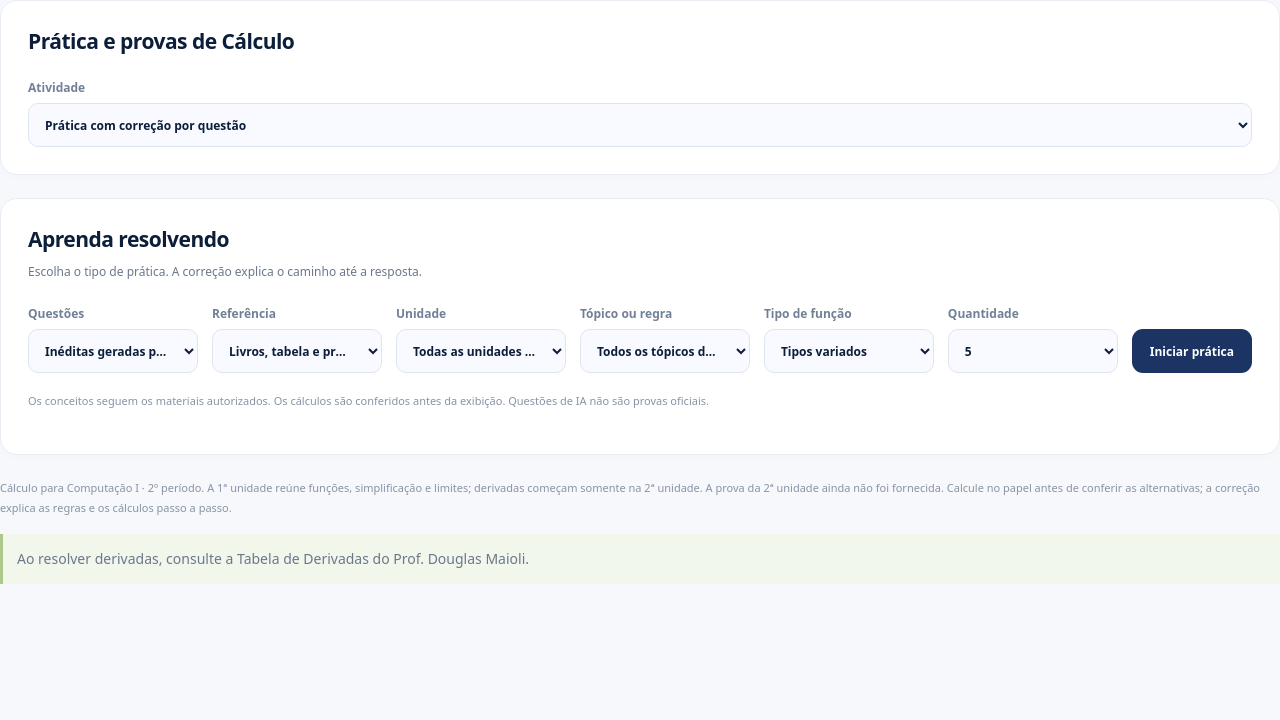
Test case: exige assuntos e quantidade suficiente no simulado personalizado
Select "Prova por assuntos selecionados" in the dropdown labelled "Atividade" at (640, 126), box [28,104,1252,148]
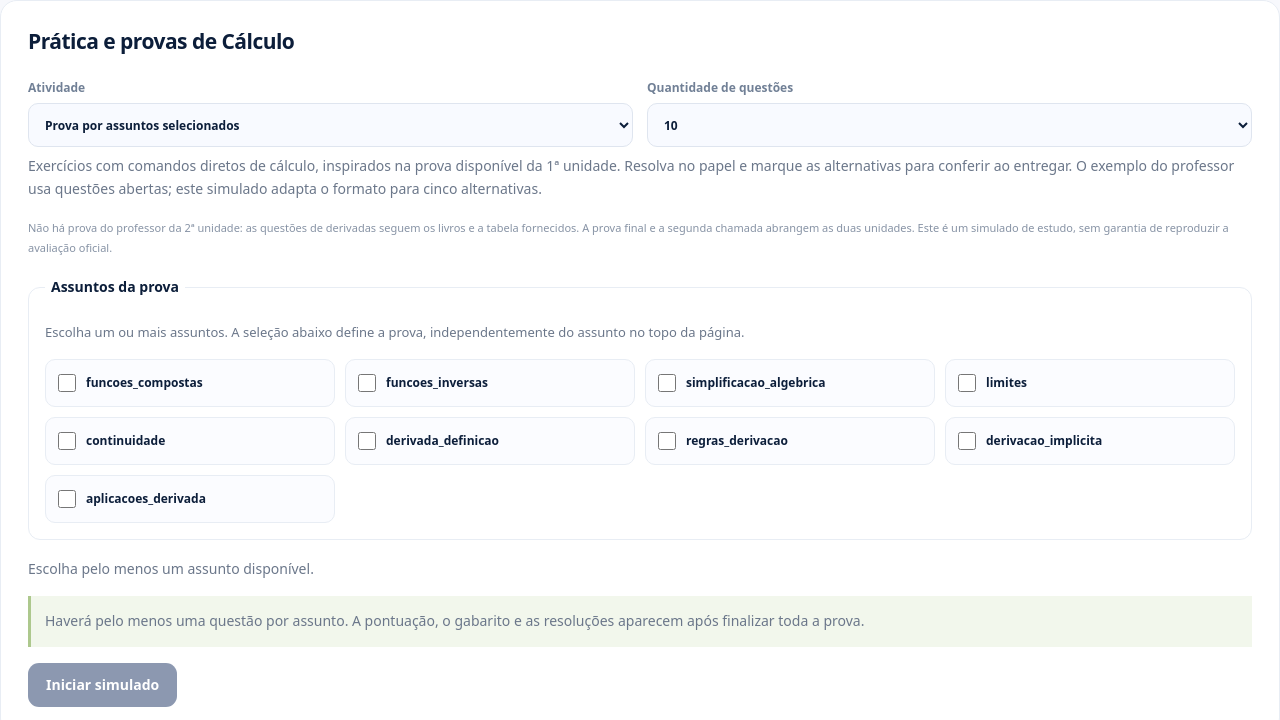
Expected: the button "Iniciar simulado" is disabled, [28,663,177,707]
Click the checkbox labelled "funcoes_compostas" at (67, 383), box [58,374,76,392]
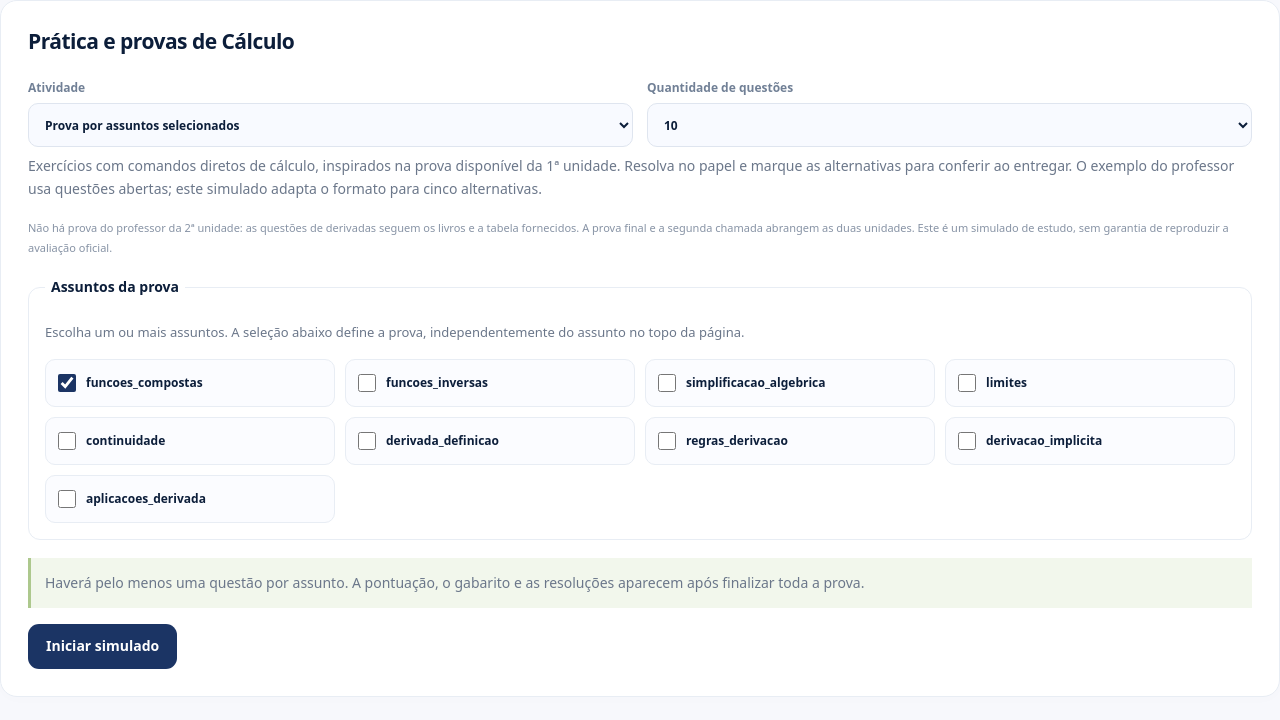
Click the checkbox labelled "derivada_definicao" at (367, 441), box [358,432,376,450]
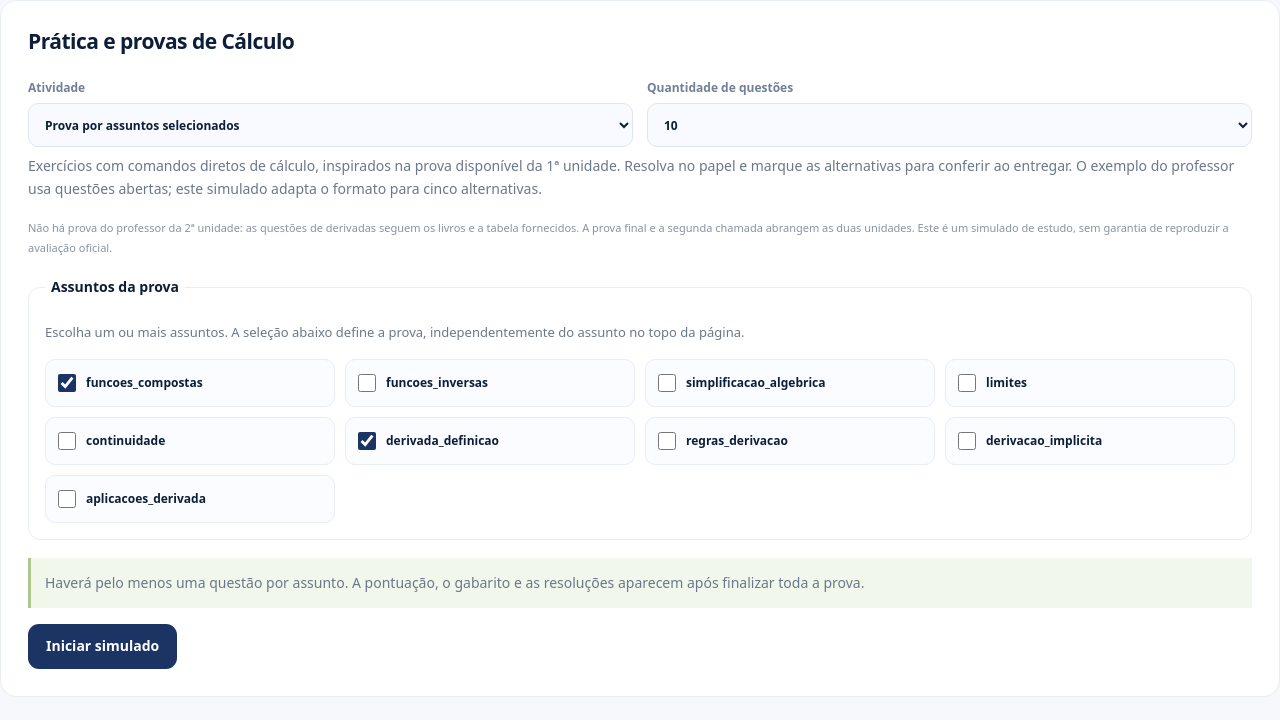
Select "1" in the dropdown labelled "Quantidade de questões" at (950, 126), box [647,104,1252,148]
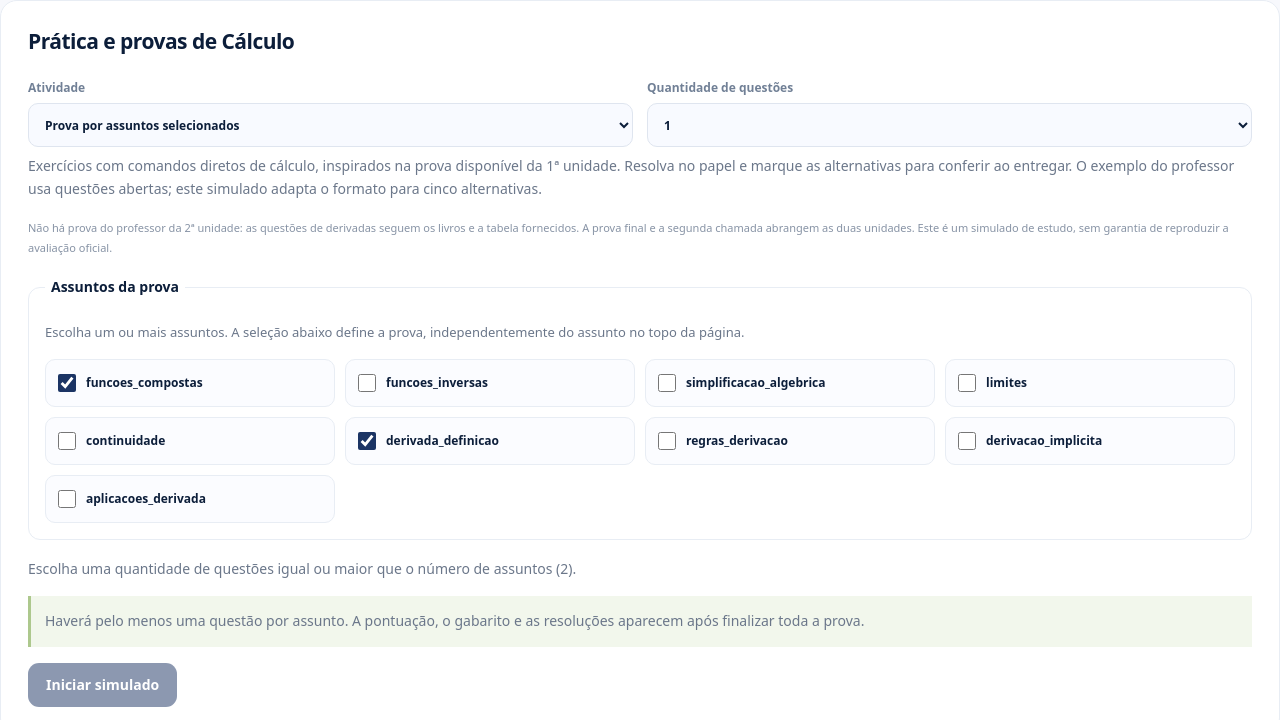
Expected: the button "Iniciar simulado" is disabled, [28,663,177,707]
Select "3" in the dropdown labelled "Quantidade de questões" at (950, 126), box [647,104,1252,148]
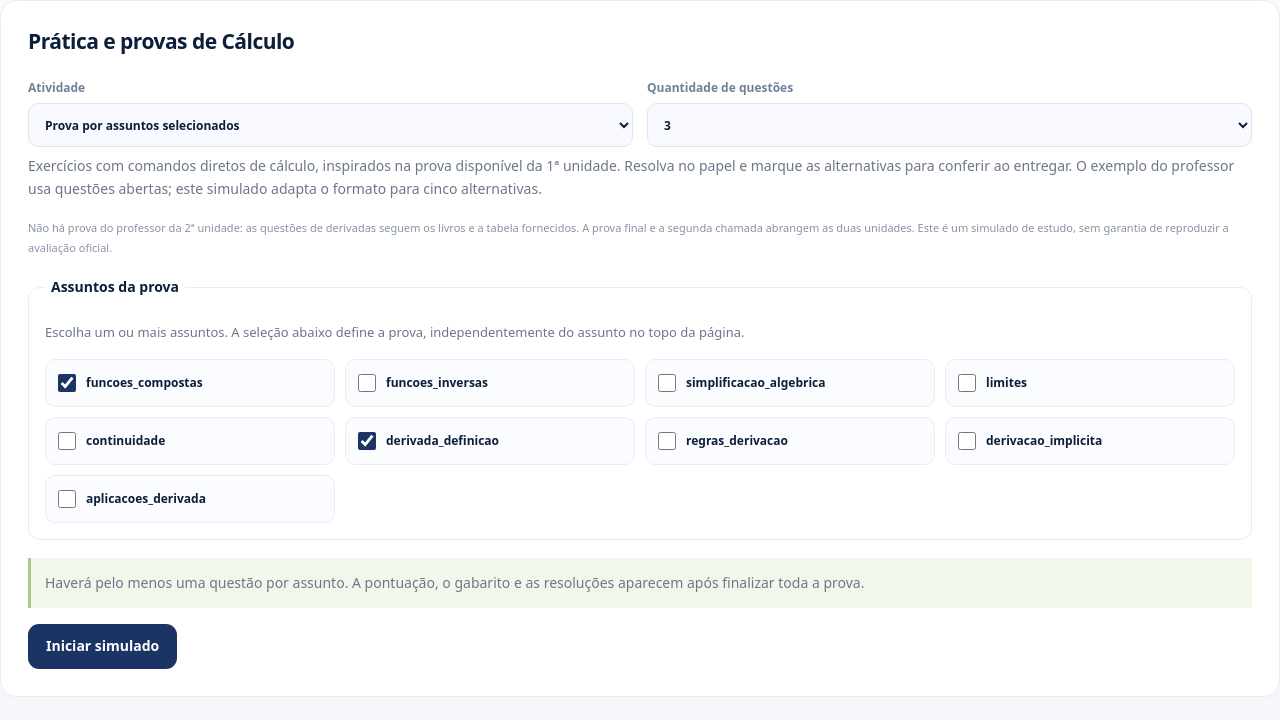
Expected: the button "Iniciar simulado" is enabled, [28,624,177,669]
